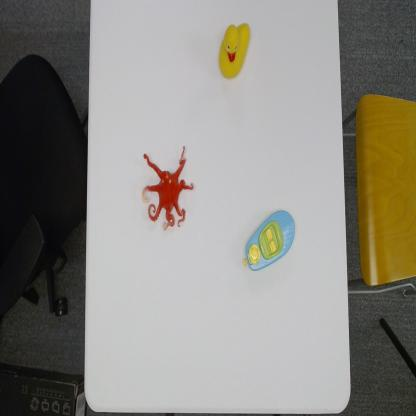Boat: (242, 207, 297, 273)
Duck: (217, 21, 252, 81)
Octopus: (141, 144, 195, 234)
